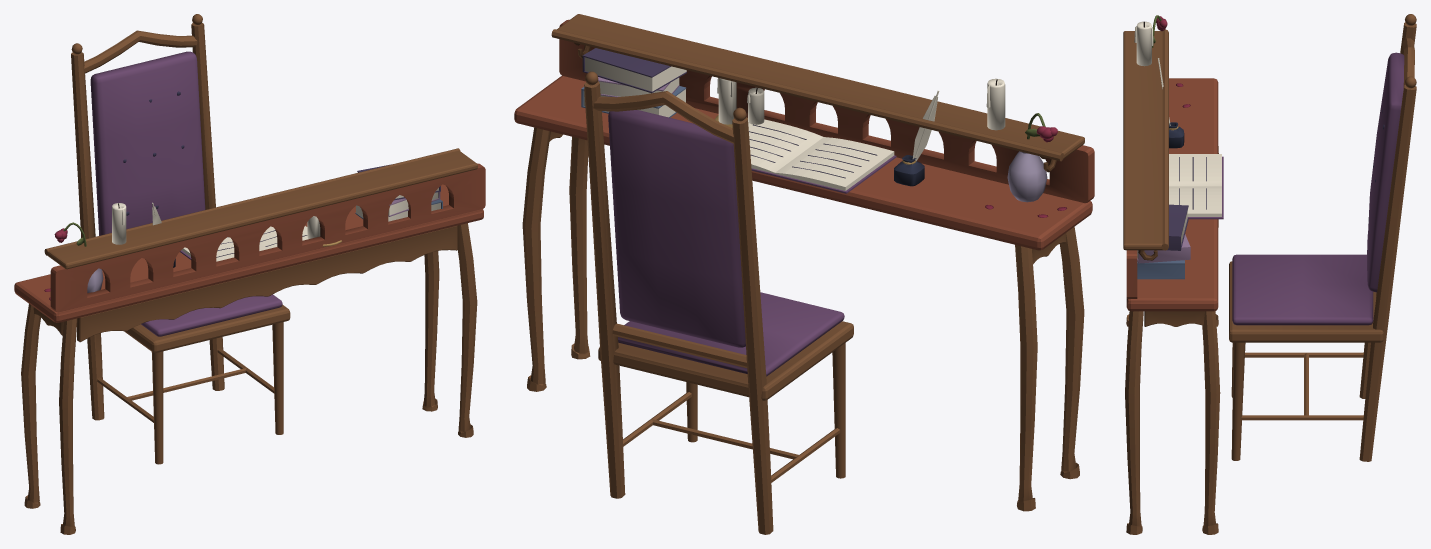
File: journalDesk.glb
The picture shows the model from 3 angles, left to right: view 1: azimuth 30°, elevation 25°; view 2: azimuth 150°, elevation 25°; view 3: azimuth 270°, elevation 25°; orthographic projection. The views are drawn at different scales.
Parts seen in each view (by area): view 1: body; view 2: body; view 3: body.
Boxes of the visible parts, x1=… form: body: x1=14, y1=14, x2=485, y2=534; body: x1=514, y1=14, x2=1094, y2=534; body: x1=1123, y1=14, x2=1416, y2=534.
Bounding box in the file's own units: 1.5 × 1.2 × 0.833.
